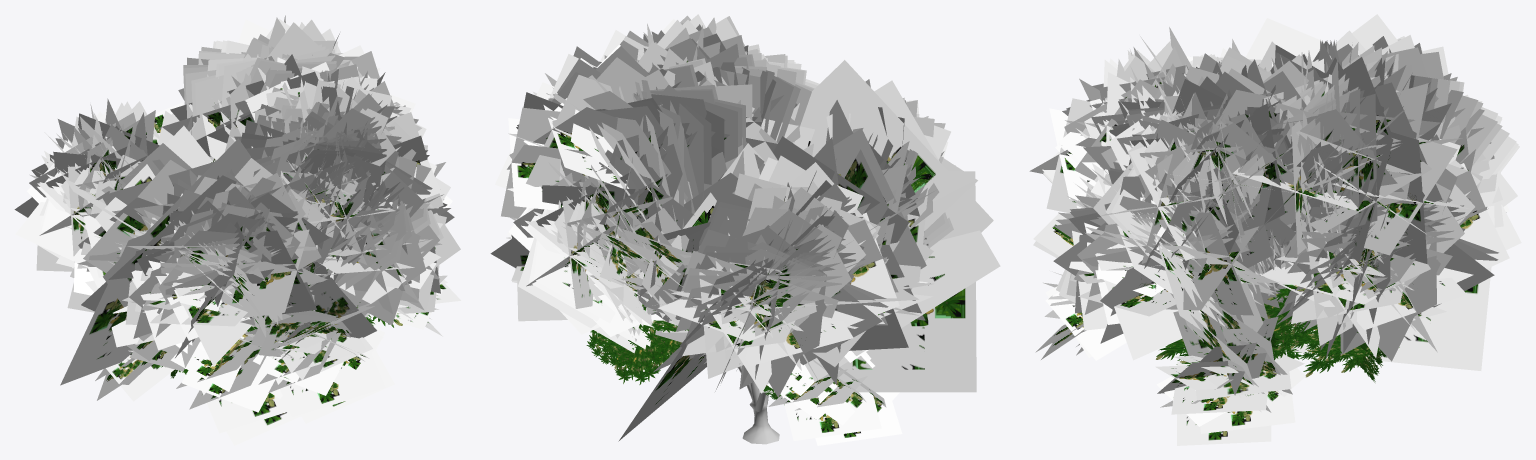
File: MANGO_vINTEGRACION.fbx
3 renders of one model, left to right at view 1: azimuth 30°, elevation 25°; view 2: azimuth 150°, elevation 25°; view 3: azimuth 270°, elevation 25°, orthographic. The views are drawn at different scales.
Parts seen in each view (by area): view 1: mango_LOD0; view 2: mango_LOD0; view 3: mango_LOD0.
Part boxes in pixels (left/top/right/bottom): mango_LOD0: left=14, top=15, right=460, bottom=445; mango_LOD0: left=490, top=14, right=1000, bottom=445; mango_LOD0: left=1029, top=14, right=1521, bottom=445.
Size of what is drawn, in the model's own units: 15.33 by 13.72 by 14.62.
